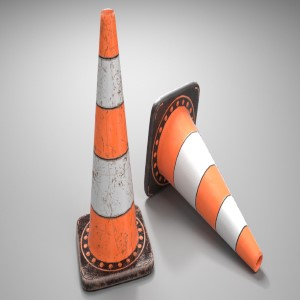traffic cone: (144, 81, 263, 273), (76, 7, 154, 292)
